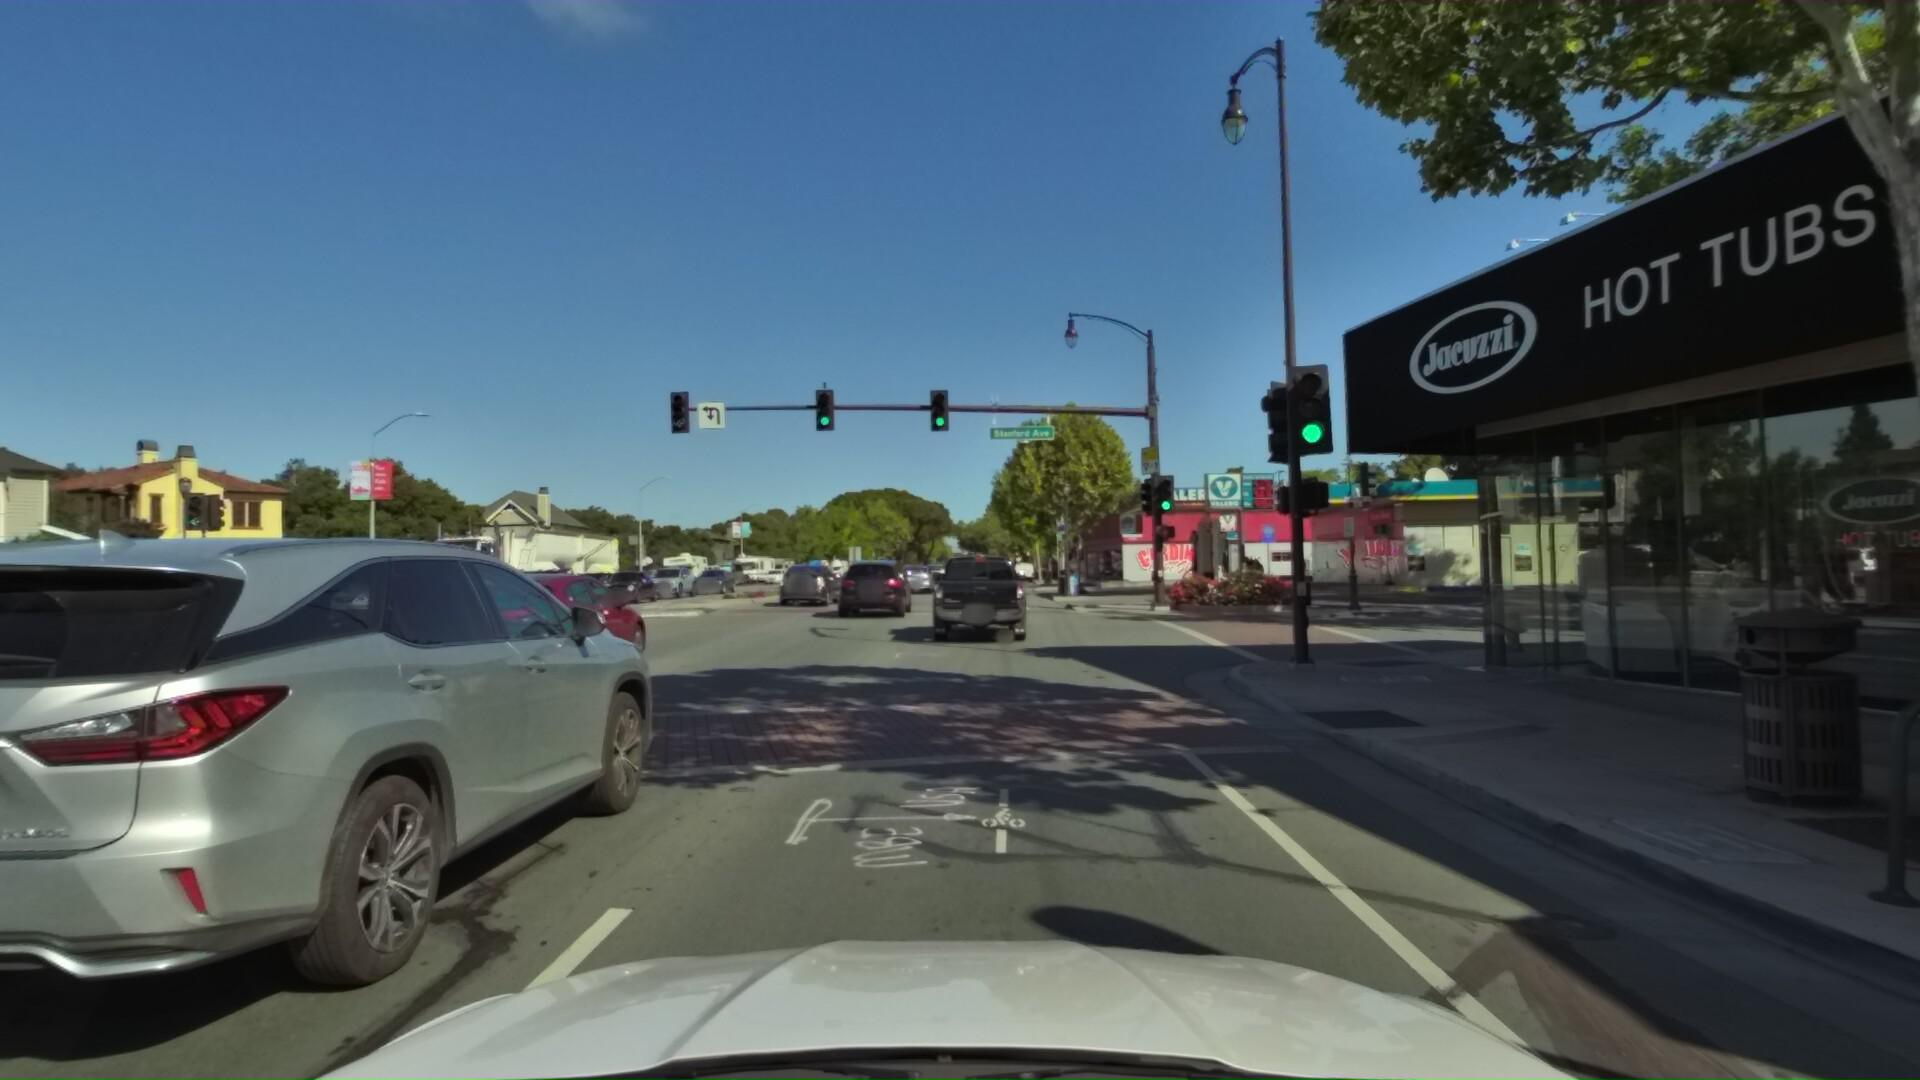car: (0, 477, 684, 1080), (0, 578, 200, 771), (407, 567, 658, 695), (0, 556, 51, 1080), (1594, 539, 1758, 601), (928, 549, 1029, 644), (493, 559, 599, 617), (829, 558, 911, 625), (774, 559, 843, 615), (589, 564, 658, 604), (636, 556, 699, 597), (890, 564, 938, 600), (686, 562, 738, 591), (976, 560, 1004, 583), (920, 563, 948, 585), (1011, 555, 1035, 579)
truck: (375, 506, 624, 622), (1290, 520, 1448, 579)
